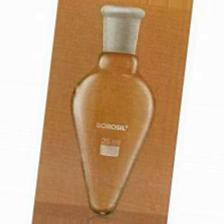Pear shaped flask: (66, 10, 158, 214)
